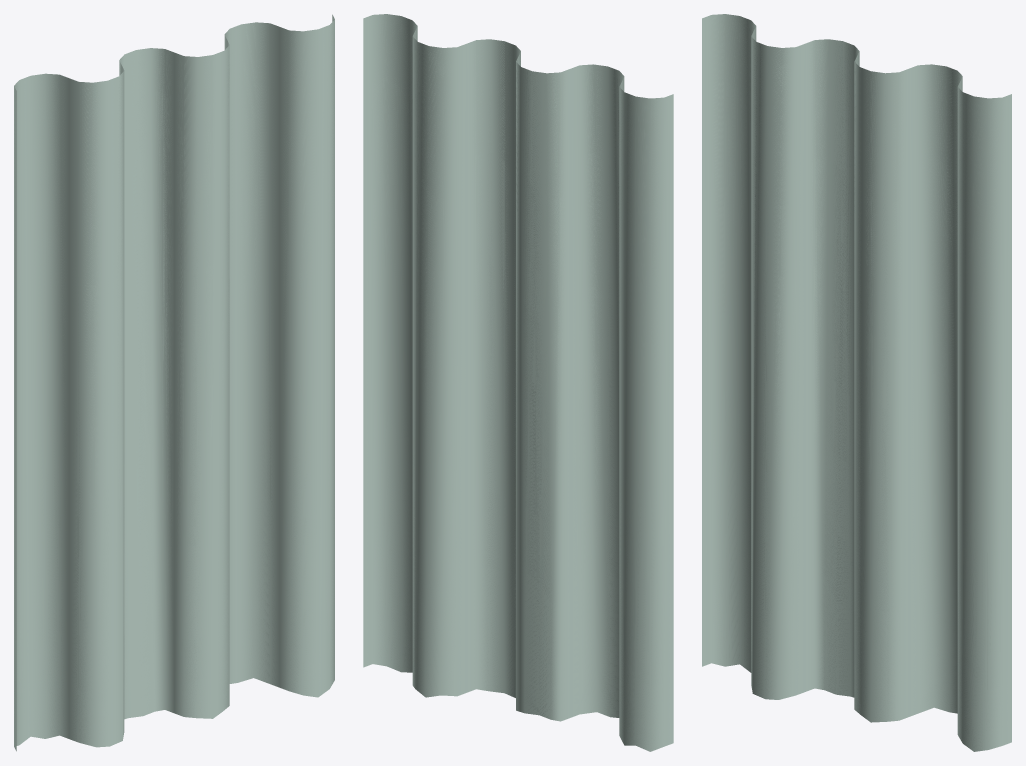
The model's file is JPBM11Curtain.obj.
The picture shows the model from 3 angles, left to right: view 1: azimuth 30°, elevation 25°; view 2: azimuth 150°, elevation 25°; view 3: azimuth 330°, elevation 25°; orthographic projection.
Parts seen in each view (by area): view 1: JPBM11Curtain; view 2: JPBM11Curtain; view 3: JPBM11Curtain.
Part boxes in pixels (left/top/right/bottom): JPBM11Curtain: left=14, top=14, right=334, bottom=751; JPBM11Curtain: left=363, top=14, right=673, bottom=751; JPBM11Curtain: left=702, top=14, right=1011, bottom=751.
Size of the model in its own units: 1.5 by 3.03 by 0.2456.
